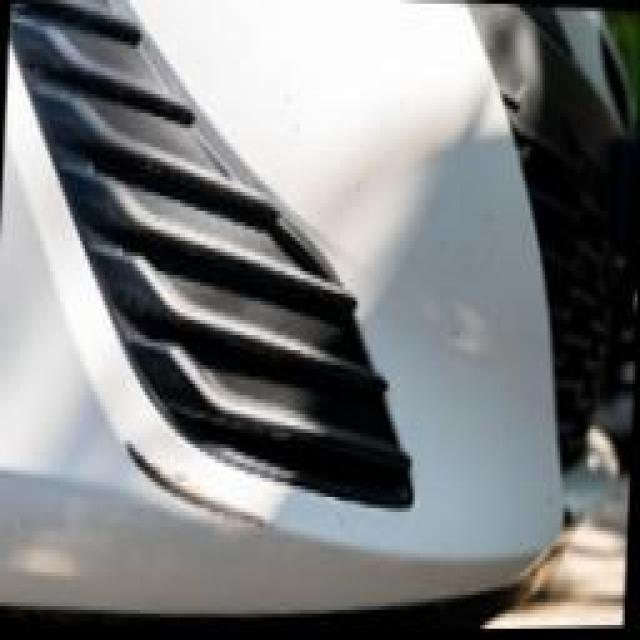Bumper: (0, 399, 347, 601)
